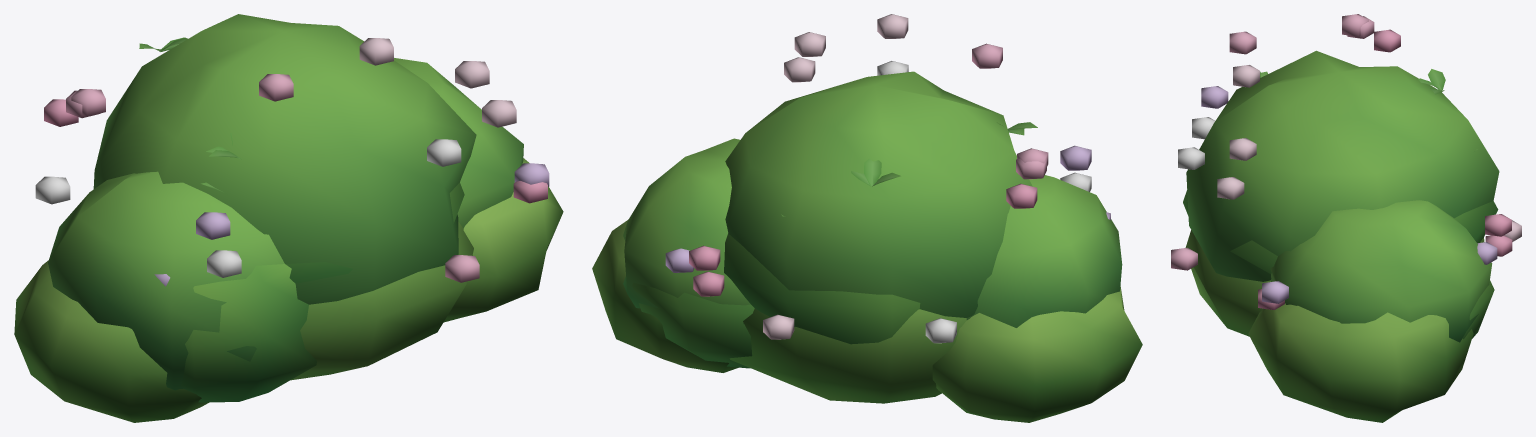
The picture shows the model from 3 angles, left to right: view 1: azimuth 30°, elevation 25°; view 2: azimuth 150°, elevation 25°; view 3: azimuth 270°, elevation 25°; orthographic projection. The views are drawn at different scales.
Visible parts, largest first — view 1: bush_bloom, bush_low, bush_round; view 2: bush_bloom, bush_low, bush_round; view 3: bush_bloom, bush_low, bush_round.
Boxes of the visible parts, x1,y1,x2,y2 form: bush_bloom: (35, 14, 549, 390); bush_low: (14, 158, 563, 422); bush_round: (139, 37, 464, 402); bush_bloom: (623, 14, 1122, 343); bush_low: (592, 219, 1142, 422); bush_round: (632, 122, 1037, 368); bush_bloom: (1171, 14, 1521, 342); bush_low: (1185, 230, 1484, 422); bush_round: (1183, 69, 1498, 339).
Size of the model in its own units: 1.63 by 1.04 by 1.12.
